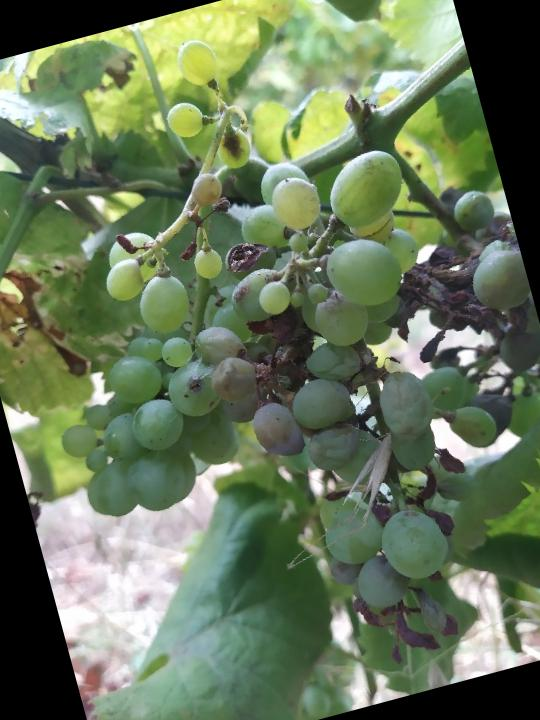grape: (151, 105, 540, 698)
